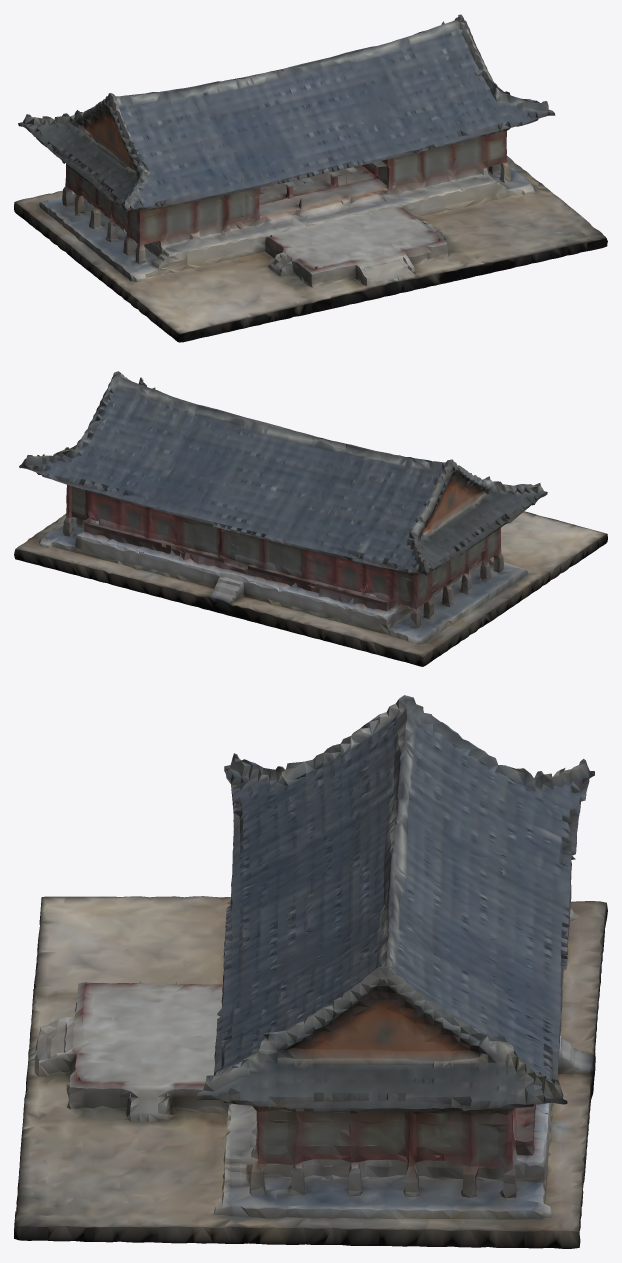
The model's file is gangnyeongjeon.glb.
3 renders of one model, top to bottom at view 1: azimuth 30°, elevation 25°; view 2: azimuth 150°, elevation 25°; view 3: azimuth 270°, elevation 25°, orthographic. The views are drawn at different scales.
Size of the model in its own units: 1.02 by 0.3528 by 0.7585.
